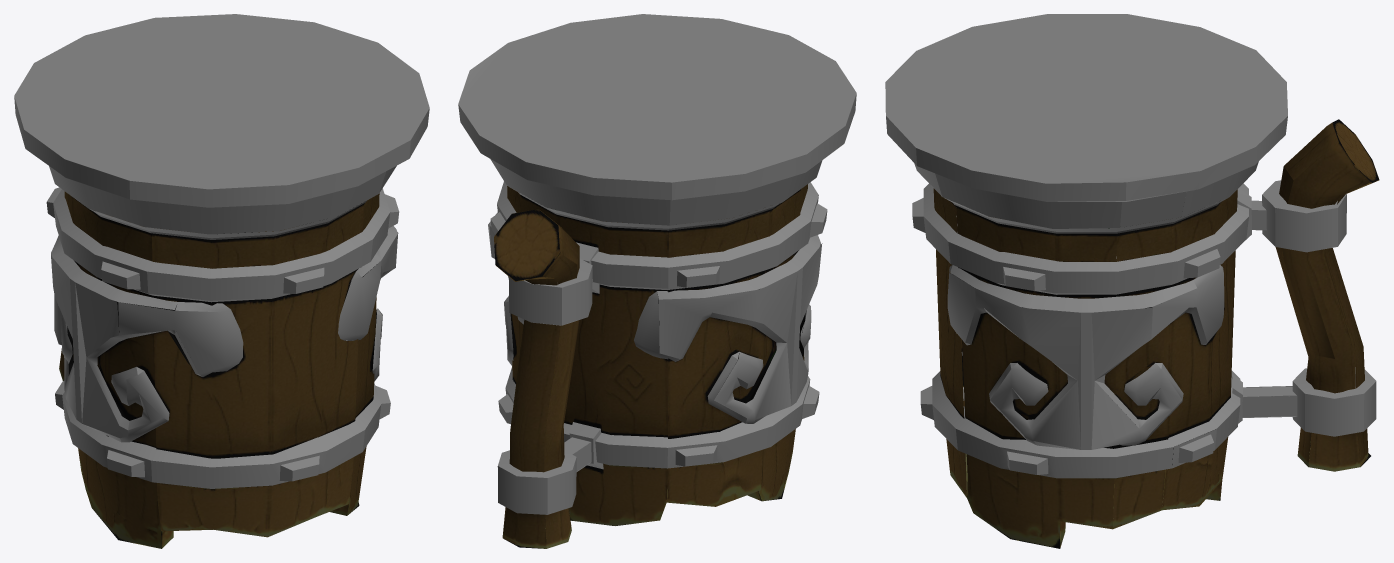
3 renders of one model, left to right at view 1: azimuth 30°, elevation 25°; view 2: azimuth 150°, elevation 25°; view 3: azimuth 270°, elevation 25°, orthographic. The views are drawn at different scales.
Parts seen in each view (by area): view 1: lowPoly_ork; view 2: lowPoly_ork; view 3: lowPoly_ork.
Boxes of the visible parts, x1,y1,x2,y2 form: lowPoly_ork: (14, 14, 429, 548); lowPoly_ork: (458, 14, 856, 548); lowPoly_ork: (885, 14, 1379, 548).
Size of the model in its own units: 39.03 by 42.28 by 48.03.
Materials: 2 (1 with a texture image).
